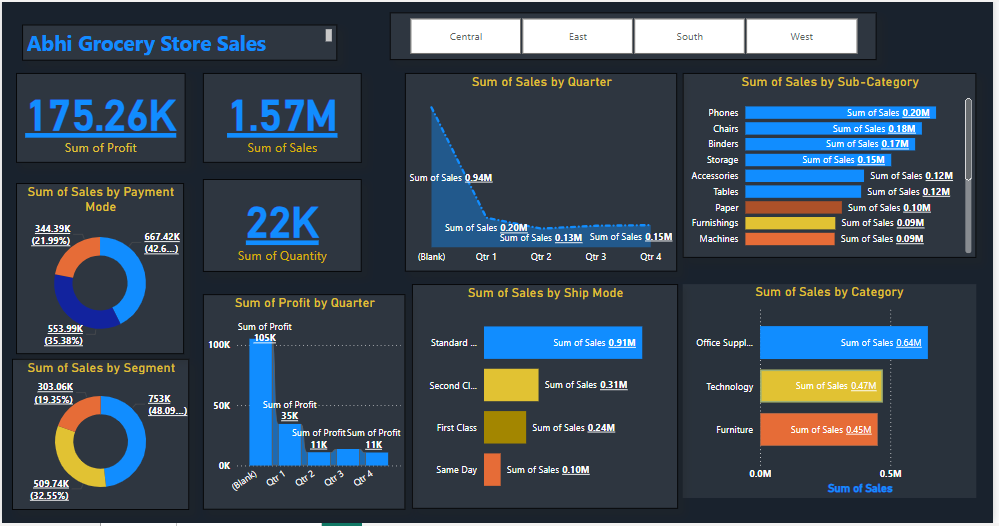

This screenshot's page, from the dashboard's own definition file:
{"tool":"powerbi","page":{"name":"Page 1","canvas":[1280,720],"ordinal":0},"visuals":[{"type":"clusteredBarChart","fields":{"Category":["SuperStore_Sales_Dataset.Category"],"Y":["Sum(SuperStore_Sales_Dataset.Sales)"]},"box":[879.5,411.6,379.1,276.7],"z":0},{"type":"clusteredBarChart","fields":{"Category":["SuperStore_Sales_Dataset.Sub-Category","SuperStore_Sales_Dataset.Category"],"Y":["Sum(SuperStore_Sales_Dataset.Sales)"]},"box":[879.5,138.3,379.1,239.1],"z":1},{"type":"clusteredBarChart","fields":{"Category":["SuperStore_Sales_Dataset.Ship Mode","SuperStore_Sales_Dataset.Category"],"Y":["Sum(SuperStore_Sales_Dataset.Sales)"]},"box":[529.4,411.6,343.3,290.3],"z":2},{"type":"stackedAreaChart","fields":{"Category":["SuperStore_Sales_Dataset.Order Date.Variation.Date Hierarchy.Quarter","SuperStore_Sales_Dataset.Order Date.Variation.Date Hierarchy.Month","SuperStore_Sales_Dataset.Order Date.Variation.Date Hierarchy.Day"],"Y":["Sum(SuperStore_Sales_Dataset.Sales)"]},"box":[520.9,138.3,351.8,256.2],"z":3},{"type":"columnChart","fields":{"Category":["SuperStore_Sales_Dataset.Order Date.Variation.Date Hierarchy.Quarter","SuperStore_Sales_Dataset.Order Date.Variation.Date Hierarchy.Month","SuperStore_Sales_Dataset.Order Date.Variation.Date Hierarchy.Day"],"Y":["Sum(SuperStore_Sales_Dataset.Profit)"]},"box":[259.6,423.5,261.3,278.4],"z":4},{"type":"donutChart","fields":{"Category":["SuperStore_Sales_Dataset.Segment"],"Y":["Sum(SuperStore_Sales_Dataset.Sales)"]},"box":[13.7,507.2,228.8,194.7],"z":5},{"type":"donutChart","fields":{"Category":["SuperStore_Sales_Dataset.Payment Mode"],"Y":["Sum(SuperStore_Sales_Dataset.Sales)"]},"box":[18.8,280.1,216.9,220.3],"z":6},{"type":"slicer","fields":{"Values":["SuperStore_Sales_Dataset.Region"]},"box":[500.4,59.8,628.5,61.5],"z":7},{"type":"textbox","box":[25.6,75.1,406.4,46.1],"z":8},{"type":"card","fields":{"Values":["Sum(SuperStore_Sales_Dataset.Sales)"]},"box":[259.6,138.3,204.9,116.1],"z":9},{"type":"card","fields":{"Values":["Sum(SuperStore_Sales_Dataset.Profit)"]},"box":[18.8,138.3,218.6,116.1],"z":10},{"type":"card","fields":{"Values":["Sum(SuperStore_Sales_Dataset.Quantity)"]},"box":[259.6,275,204.9,119.5],"z":11}]}

Visuals, with their boxes on the page's 1280x720 design canvas (x1, y1, x2, y2). These are canvas units, not pixel positions in the 999x526 screenshot, which may show the page scaled, cropped or inside an application window:
clusteredBarChart - SuperStore_Sales_Dataset.Category x Sum(SuperStore_Sales_Dataset.Sales): <region>880, 412, 1259, 688</region>
clusteredBarChart - SuperStore_Sales_Dataset.Sub-Category x SuperStore_Sales_Dataset.Category: <region>880, 138, 1259, 377</region>
clusteredBarChart - SuperStore_Sales_Dataset.Ship Mode x SuperStore_Sales_Dataset.Category: <region>529, 412, 873, 702</region>
stackedAreaChart - SuperStore_Sales_Dataset.Order Date.Variation.Date Hierarchy.Quarter x SuperStore_Sales_Dataset.Order Date.Variation.Date Hierarchy.Month: <region>521, 138, 873, 394</region>
columnChart - SuperStore_Sales_Dataset.Order Date.Variation.Date Hierarchy.Quarter x SuperStore_Sales_Dataset.Order Date.Variation.Date Hierarchy.Month: <region>260, 424, 521, 702</region>
donutChart - SuperStore_Sales_Dataset.Segment x Sum(SuperStore_Sales_Dataset.Sales): <region>14, 507, 242, 702</region>
donutChart - SuperStore_Sales_Dataset.Payment Mode x Sum(SuperStore_Sales_Dataset.Sales): <region>19, 280, 236, 500</region>
slicer - SuperStore_Sales_Dataset.Region: <region>500, 60, 1129, 121</region>
textbox: <region>26, 75, 432, 121</region>
card - Sum(SuperStore_Sales_Dataset.Sales): <region>260, 138, 464, 254</region>
card - Sum(SuperStore_Sales_Dataset.Profit): <region>19, 138, 237, 254</region>
card - Sum(SuperStore_Sales_Dataset.Quantity): <region>260, 275, 464, 394</region>
